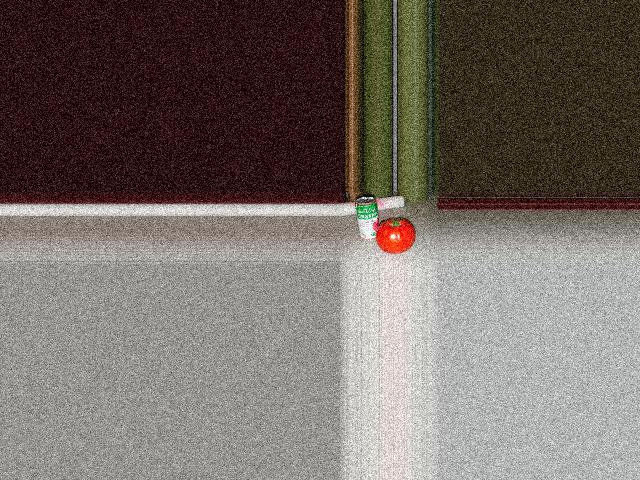tomato: (376, 219, 415, 253)
